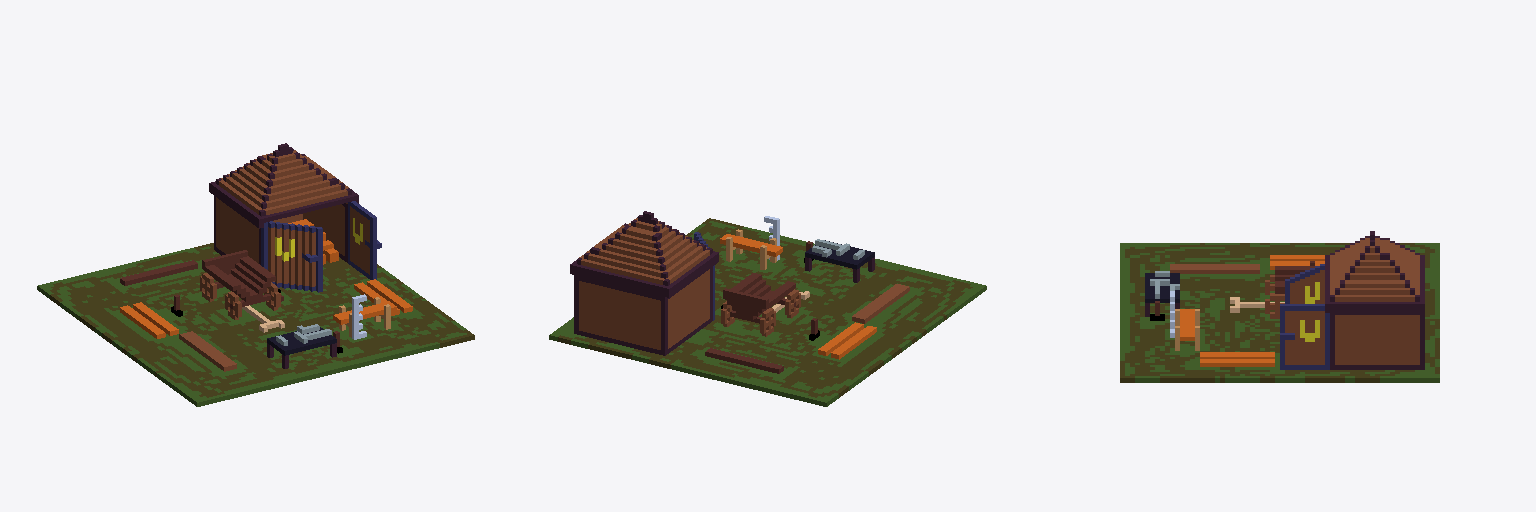
3 views of the same model, side by side, from view 1: azimuth 30°, elevation 25°; view 2: azimuth 150°, elevation 25°; view 3: azimuth 270°, elevation 25° (orthographic).
Parts seen in each view (by area): view 1: object 1; view 2: object 1; view 3: object 1.
Part boxes in pixels (x1,y1,x2,y2): object 1: (37,143,474,406); object 1: (549,211,986,406); object 1: (1120,231,1439,382).
Size of the model in its own units: 6.4 by 2.6 by 6.4.
1 materials, 1 textured.